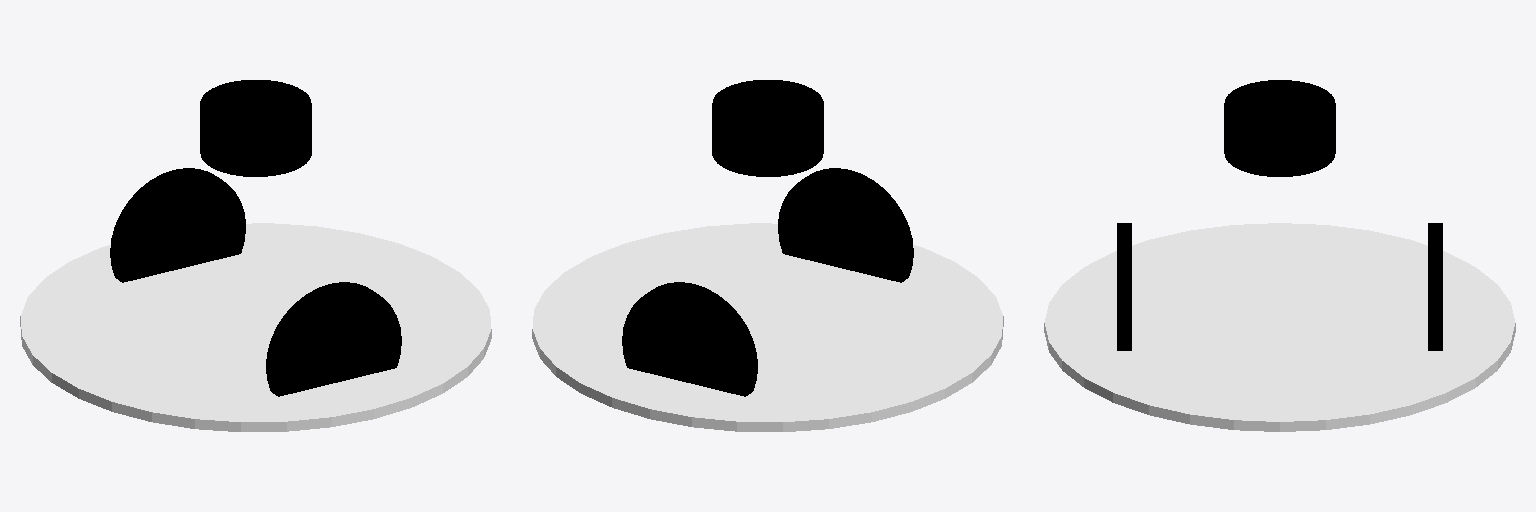
The robot description file, URDF, robot "test_robot":
<robot name="test_robot">

  <link name="base_link">
    <visual>
      <geometry>
        <cylinder length="0.006" radius="0.127"/>
      </geometry>
      <origin rpy="0 0 0" xyz="0 0 0.02159"/>
      <material name="white">
        <color rgba="1 1 1 1"/>
      </material>
    </visual>
  </link>
  
  <link name="left_wheel">
    <visual>
      <geometry>
        <cylinder length="0.008" radius="0.04"/>
      </geometry>
      <origin rpy="0 0 0" xyz="0 0 0"/>
      <material name="black">
        <color rgba="0 0 0 1"/>
      </material>
    </visual>
  </link>
  
  <joint name="base_to_lwheel" type="fixed">
    <parent link="base_link"/>
    <child link="left_wheel"/>
    <origin xyz="0 0.08382 0.04" rpy="1.5708 0 0"/>
  </joint>
  
  <link name="right_wheel">
    <visual>
      <geometry>
        <cylinder length="0.008" radius="0.04"/>
      </geometry>
      <origin rpy="0 0 0" xyz="0 0 0"/>
      <material name="black">
        <color rgba="0 0 0 1"/>
      </material>
    </visual>
  </link>
  
  <joint name="base_to_rwheel" type="fixed">
    <parent link="base_link"/>
    <child link="right_wheel"/>
    <origin xyz="0 -0.08382 0.04" rpy="-1.5708 0 0"/>
  </joint>
    
  <link name="f_castor">
    <visual>
      <geometry>
        <sphere radius="0.007"/>
      </geometry>
      <origin rpy="0 0 0" xyz="0 0 0"/>
      <material name="black">
        <color rgba="0 0 0 1"/>
      </material>
    </visual>
  </link>
  
  <joint name="base_to_f_castor" type="fixed">
    <parent link="base_link"/>
    <child link="f_castor"/>
    <origin xyz="0.08382 0 0.007" rpy="0 0 0"/>
  </joint>

  <link name="b_castor">
    <visual>
      <geometry>
        <sphere radius="0.007"/>
      </geometry>
      <origin rpy="0 0 0" xyz="0 0 0"/>
      <material name="black">
        <color rgba="0 0 0 1"/>
      </material>
    </visual>
  </link>
  
  <joint name="base_to_b_castor" type="fixed">
    <parent link="base_link"/>
    <child link="b_castor"/>
    <origin xyz="-0.08382 0 0.007" rpy="0 0 0"/>
  </joint>

  
  <link name="scanner">
    <visual>
      <geometry>
        <cylinder length="0.03" radius="0.03"/>
      </geometry>
      <origin rpy="0 0 0" xyz="0 0 0"/>
      <material name="black">
        <color rgba="0 0 0 1"/>
      </material>
    </visual>
  </link>
  
  <joint name="base_to_scanner" type="fixed">
    <parent link="base_link"/>
    <child link="scanner"/>
    <origin xyz="0 0 0.14" rpy="0 0 0"/>
  </joint>
  
</robot>

--- Facts derived from the render (not from the file) ---
The picture shows the robot from 3 angles, left to right: view 1: azimuth 30°, elevation 25°; view 2: azimuth 150°, elevation 25°; view 3: azimuth 270°, elevation 25°; orthographic projection.
Robot: test_robot — 6 links, 5 joints (5 fixed); root link base_link; default pose: every joint at zero.
Visible links, largest first — view 1: base_link, left_wheel, right_wheel, scanner; view 2: base_link, right_wheel, left_wheel, scanner; view 3: base_link, scanner, left_wheel, right_wheel.
Boxes of the visible links, x1,y1,x2,y2 form: base_link: [20, 223, 491, 431]; left_wheel: [110, 168, 245, 282]; right_wheel: [266, 282, 401, 396]; scanner: [200, 80, 311, 176]; base_link: [532, 223, 1003, 431]; right_wheel: [778, 168, 913, 282]; left_wheel: [622, 282, 757, 396]; scanner: [712, 80, 823, 176]; base_link: [1044, 223, 1515, 431]; scanner: [1224, 80, 1335, 176]; left_wheel: [1428, 223, 1442, 350]; right_wheel: [1117, 223, 1131, 350].
Bounding box of the posed robot: 0.254 × 0.254 × 0.155 m (x, y, z).
Geometry: primitives only (box / cylinder / sphere), no mesh files.
